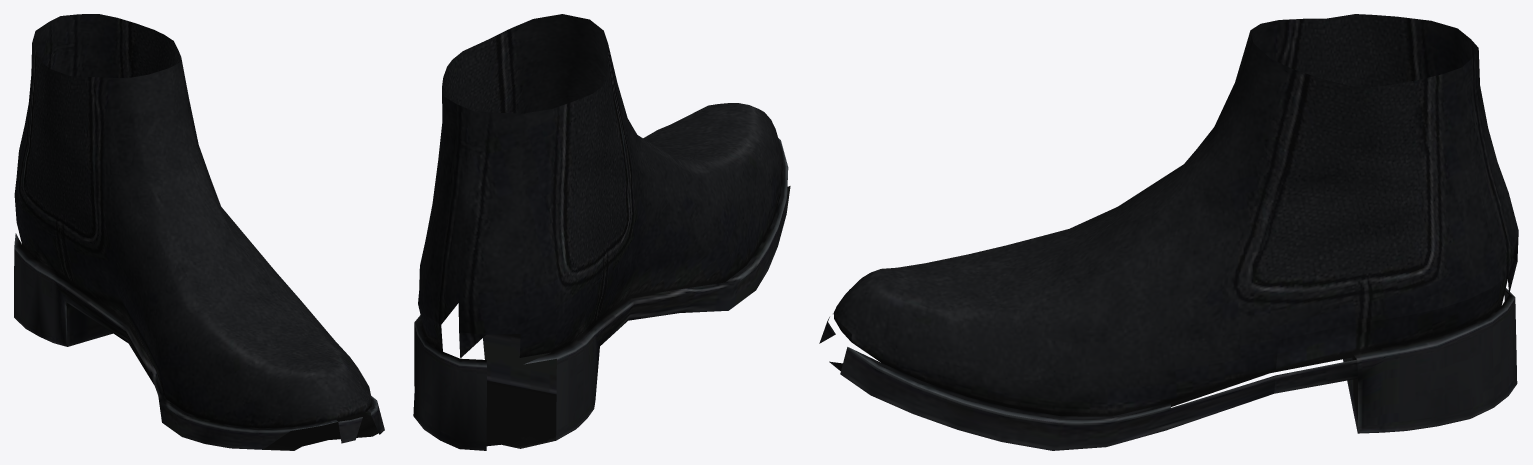
File: estudiante1_zapatoizq.glb
3 renders of one model, left to right at view 1: azimuth 30°, elevation 25°; view 2: azimuth 150°, elevation 25°; view 3: azimuth 270°, elevation 25°, orthographic. The views are drawn at different scales.
Visible parts, largest first — view 1: Object_21.001; view 2: Object_21.001; view 3: Object_21.001.
Boxes of the visible parts, x1,y1,x2,y2 form: Object_21.001: (14, 14, 384, 450); Object_21.001: (413, 14, 790, 450); Object_21.001: (819, 14, 1518, 450).
Bounding box in the file's own units: 0.1087 × 0.1752 × 0.315.
Materials: 1 (1 with a texture image).
